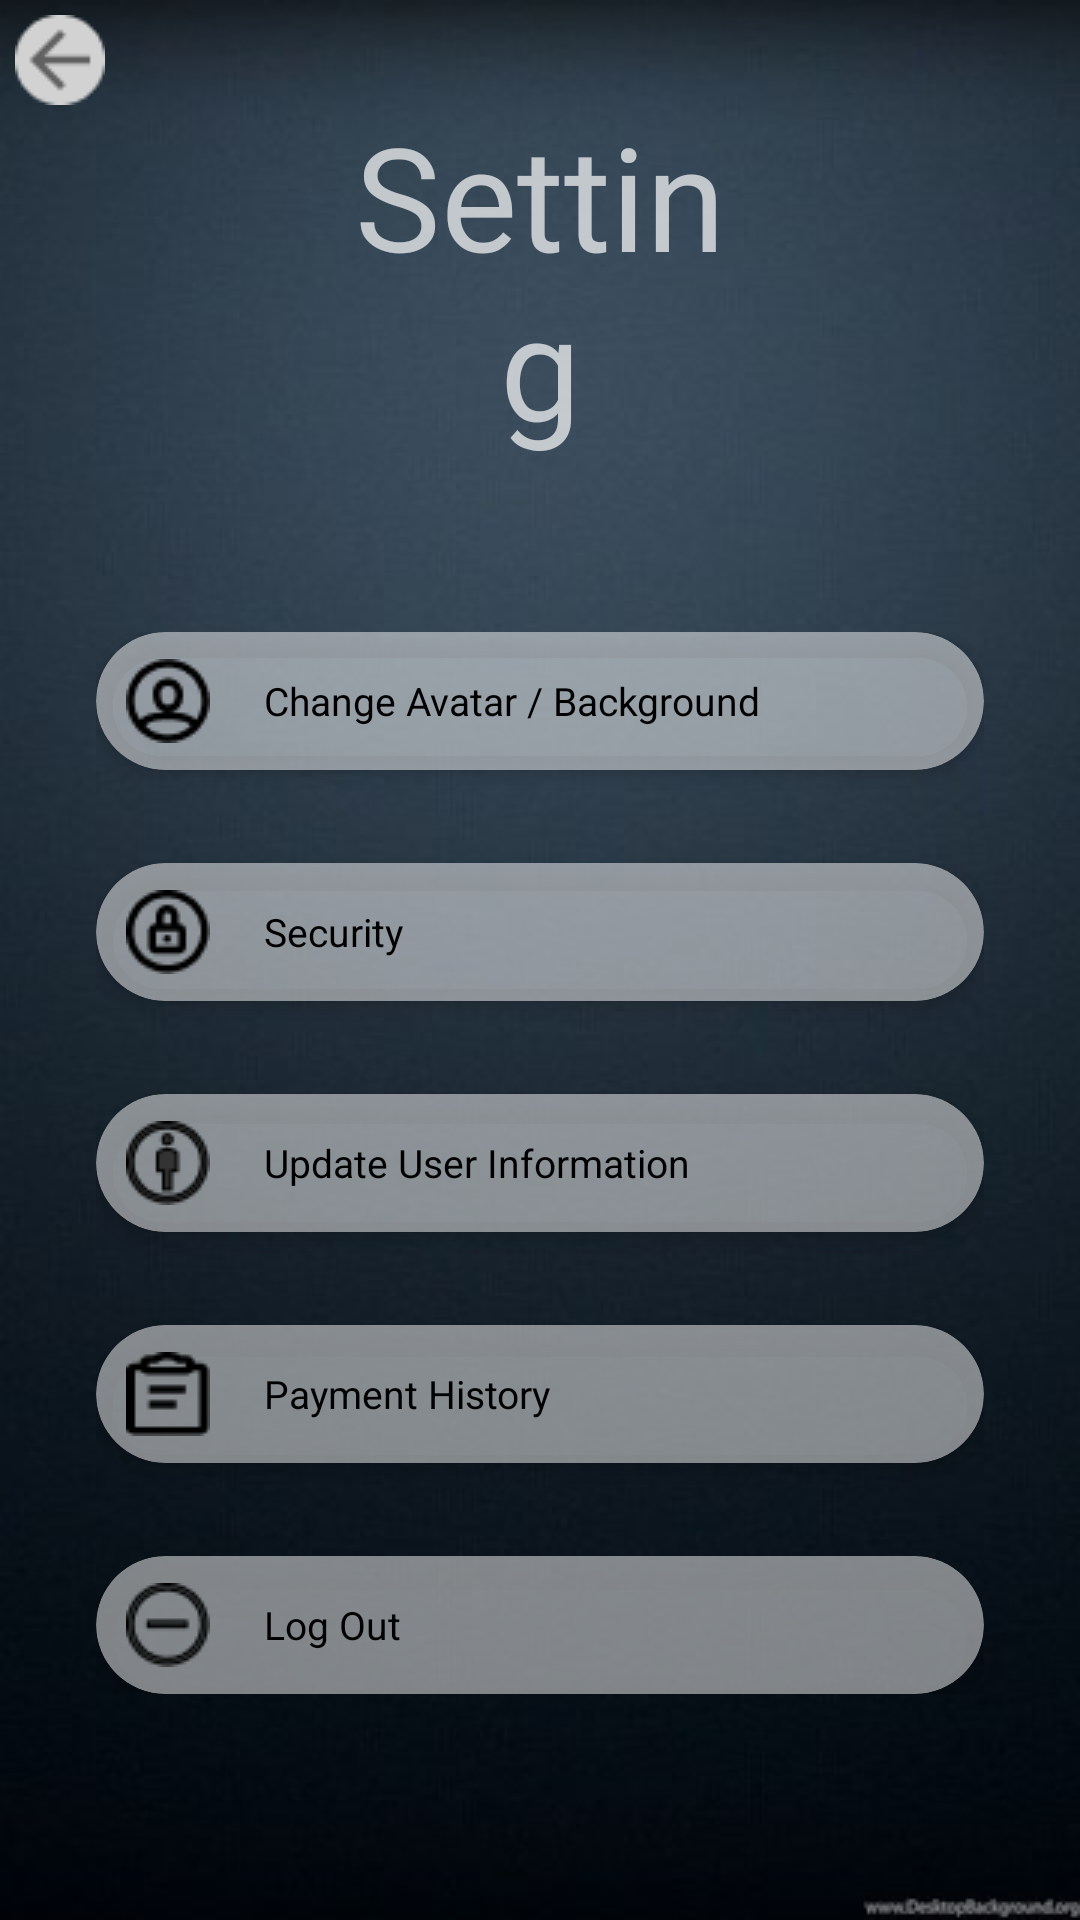

Screen size 1080*1920. Icon name, then its box in pixels as bbox(x1, y1, x2, y2):
back: bbox(15, 15, 105, 105)
